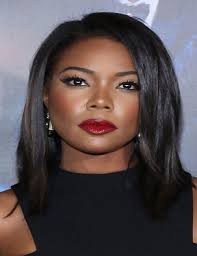black_female: (34, 10, 167, 177)
